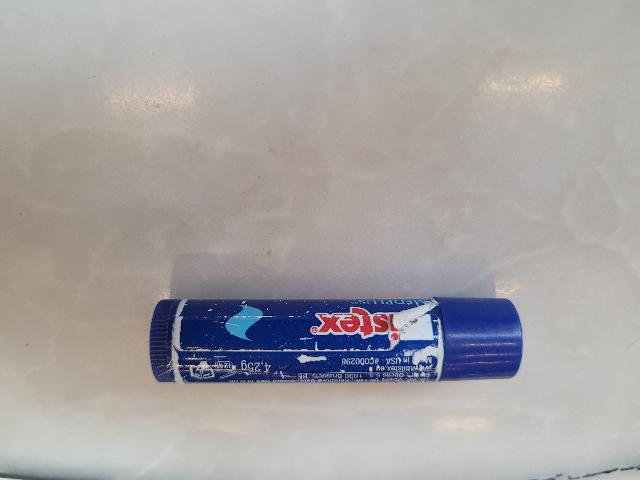Plastik: (147, 290, 526, 388)
